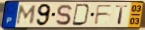9: (35, 3, 53, 27)
D: (71, 3, 92, 27)
F: (94, 4, 114, 26)
M: (15, 5, 38, 26)
S: (55, 4, 73, 26)
T: (115, 5, 129, 25)
